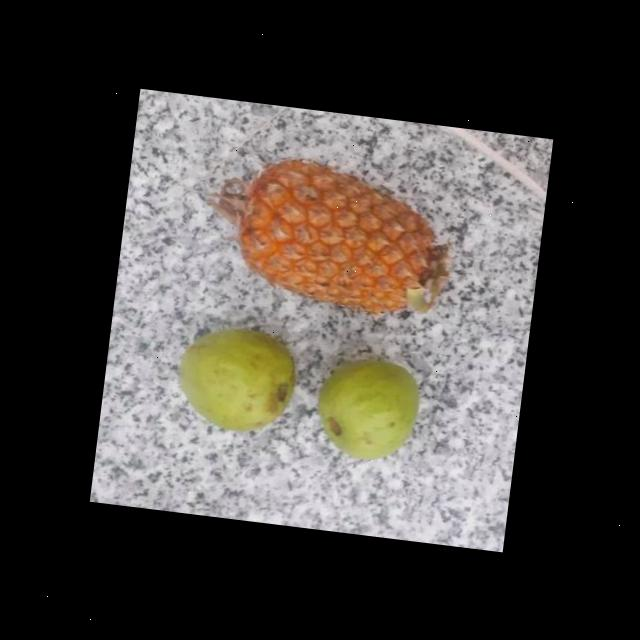guava: (173, 322, 294, 439), (312, 354, 422, 469)
pineapple: (226, 156, 454, 322)
